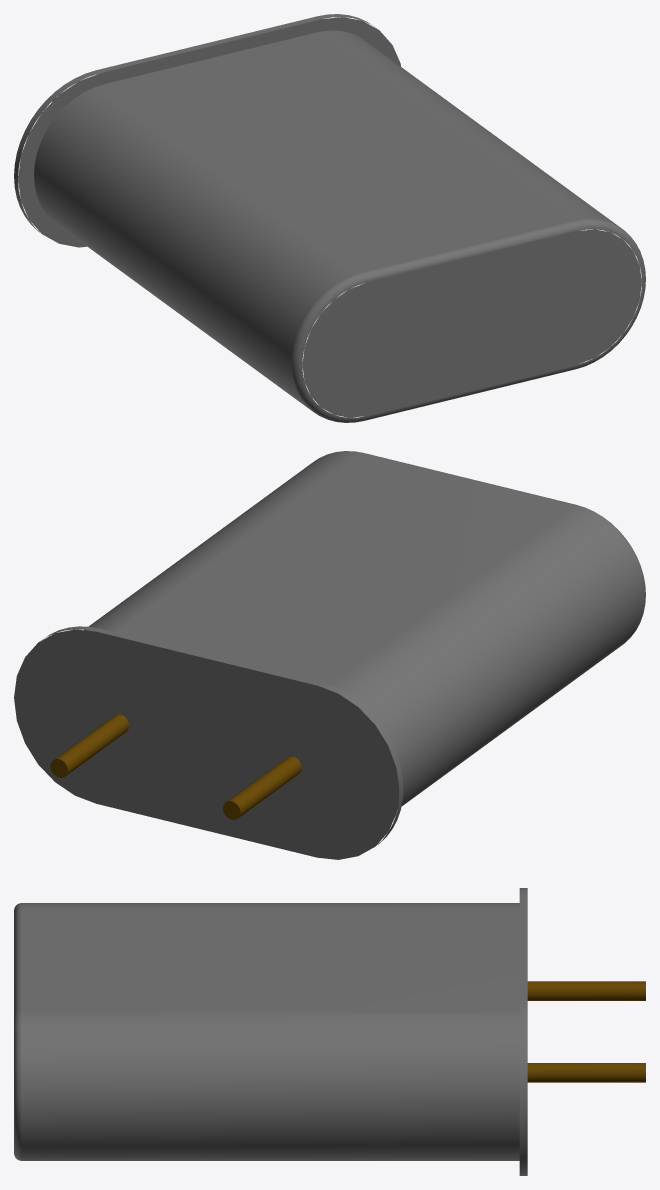
File: crystal-hc49-u-v.glb
The picture shows the model from 3 angles, top to bottom: view 1: azimuth 30°, elevation 25°; view 2: azimuth 150°, elevation 25°; view 3: azimuth 270°, elevation 25°; orthographic projection. The views are drawn at different scales.
Visible parts, largest first — view 1: MAT-717171; view 2: MAT-717171, MAT-664600 (×2); view 3: MAT-717171, MAT-664600 (×2).
Part boxes in pixels (x1,y1,x2,y2): MAT-717171: (14, 14, 645, 422); MAT-717171: (14, 451, 645, 859); MAT-664600 (×2): (55, 714, 301, 818); MAT-717171: (14, 888, 527, 1175); MAT-664600 (×2): (527, 981, 645, 1082).
Bounding box in the file's own units: 10.9 × 4.65 × 16.
